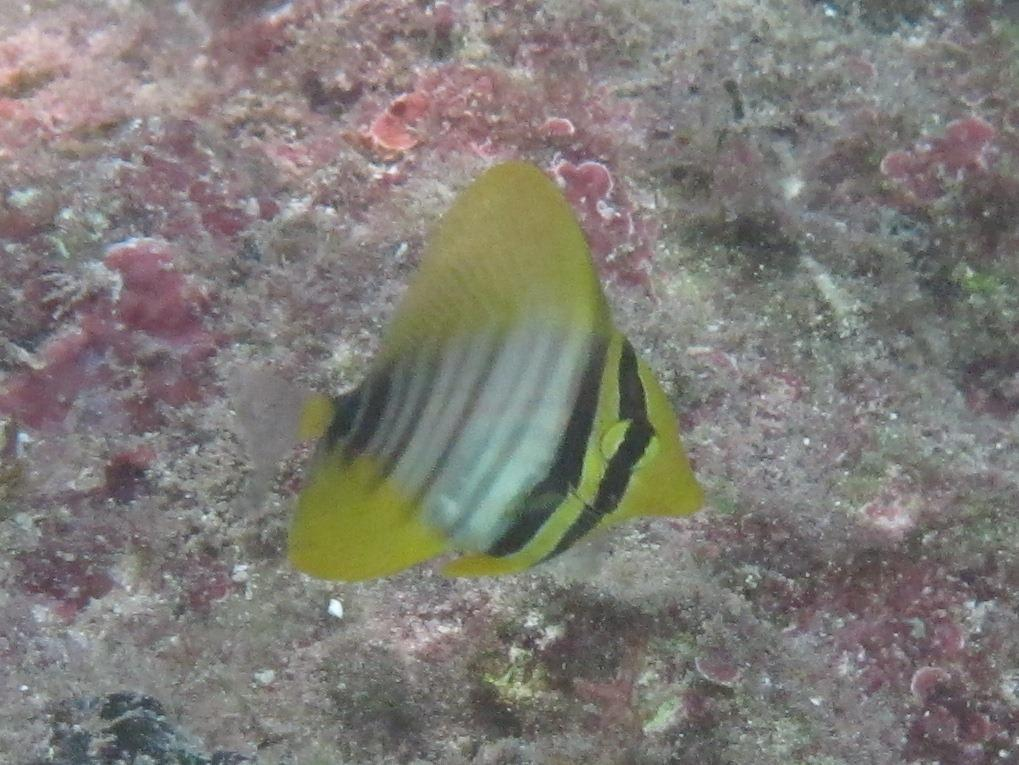Fish: (220, 134, 732, 628)
